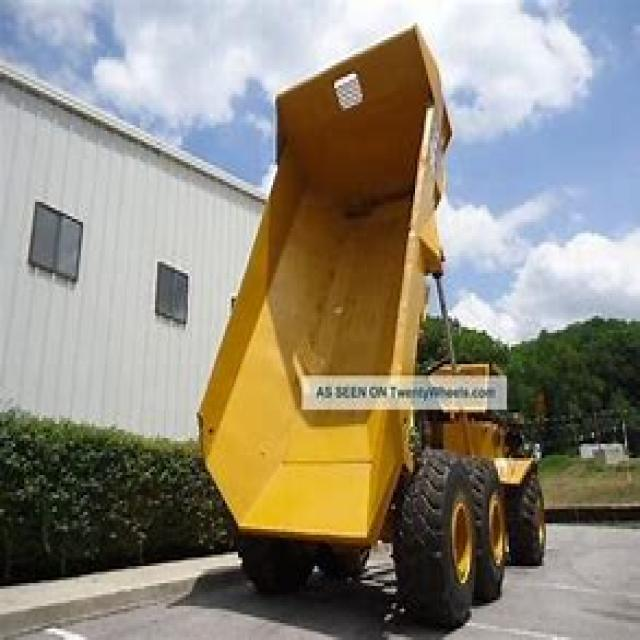dump_truck: (188, 22, 559, 628)
